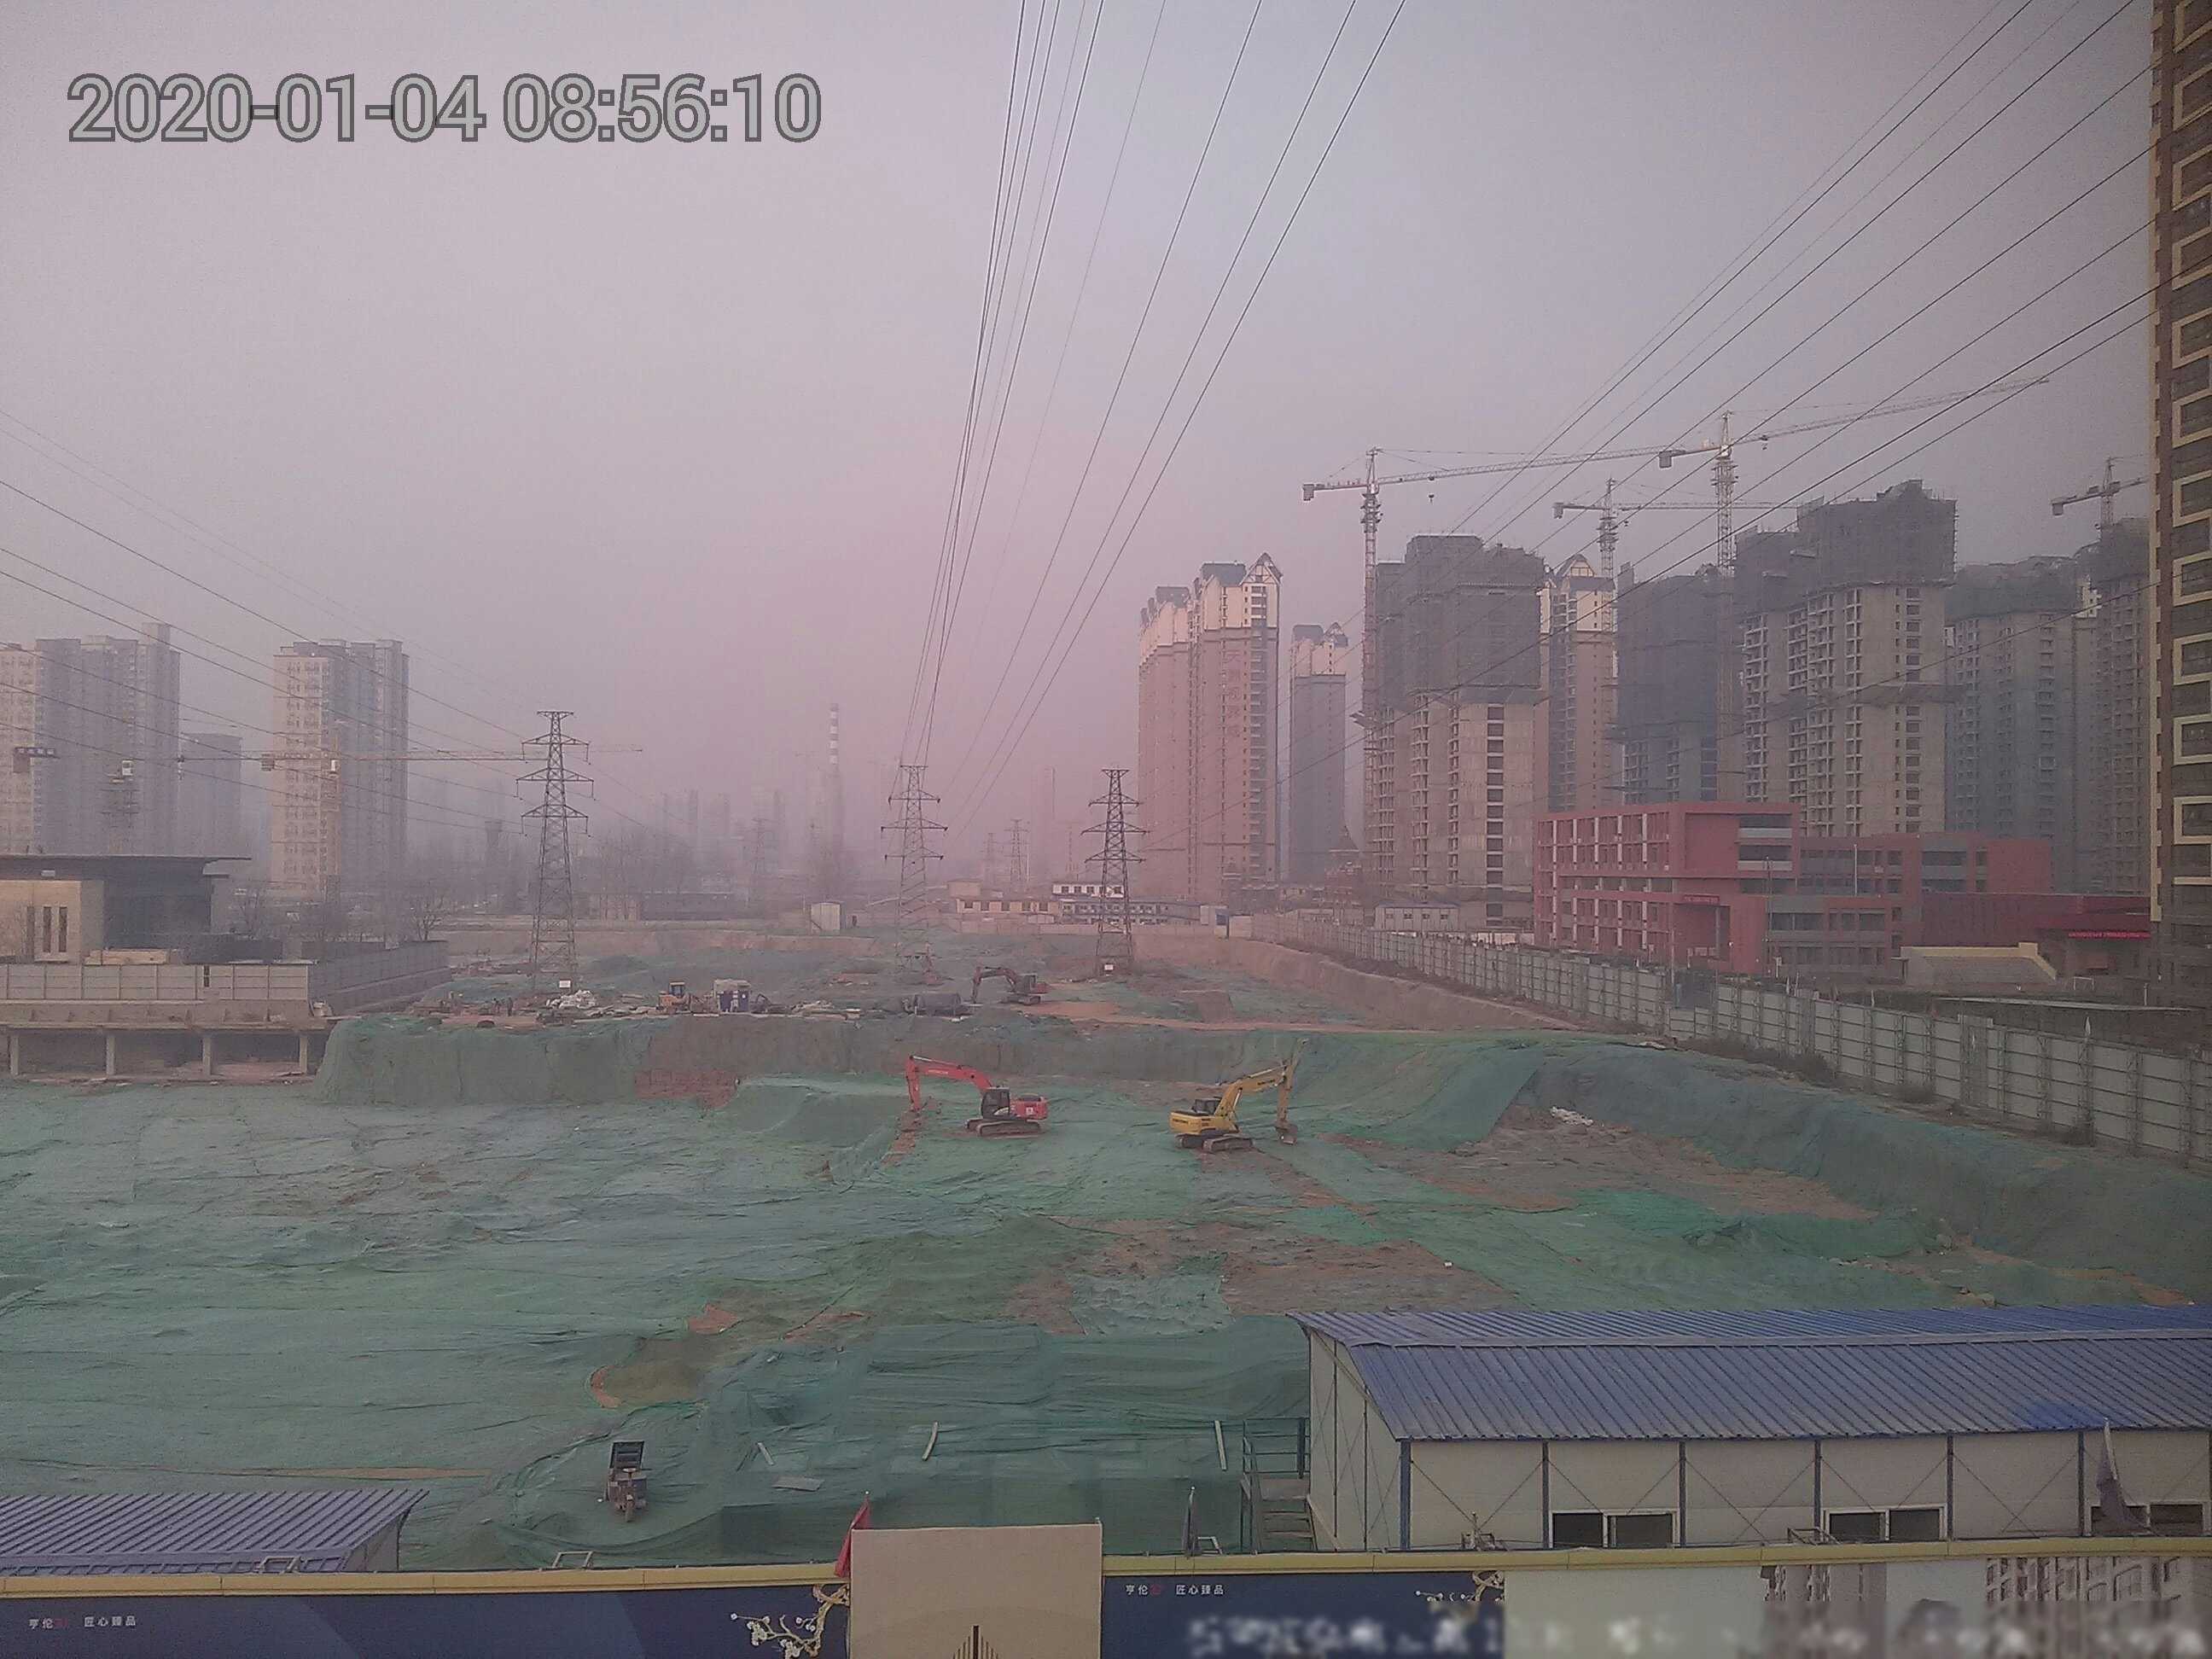gouche: (1172, 1042, 1292, 1155), (897, 1051, 1054, 1131)
tadiao: (1289, 410, 1749, 505)
